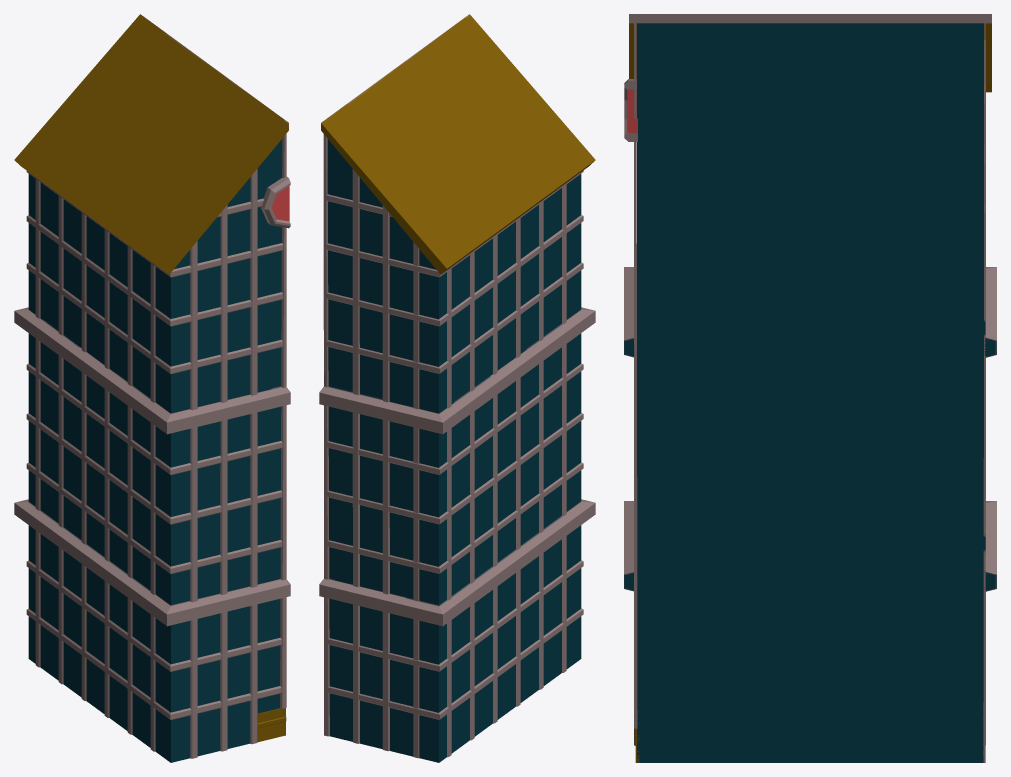
File: Building_HalfSection_01.glb
The picture shows the model from 3 angles, left to right: view 1: azimuth 30°, elevation 25°; view 2: azimuth 150°, elevation 25°; view 3: azimuth 270°, elevation 25°; orthographic projection. The views are drawn at different scales.
Parts seen in each view (by area): view 1: Building_HalfSection_01; view 2: Building_HalfSection_01; view 3: Building_HalfSection_01.
Boxes of the visible parts, x1=… form: Building_HalfSection_01: x1=14, y1=14, x2=290, y2=762; Building_HalfSection_01: x1=319, y1=14, x2=595, y2=762; Building_HalfSection_01: x1=624, y1=14, x2=996, y2=762.
Bounding box in the file's own units: 5.1 × 23.74 × 10.7.
1 material, 1 textured.
